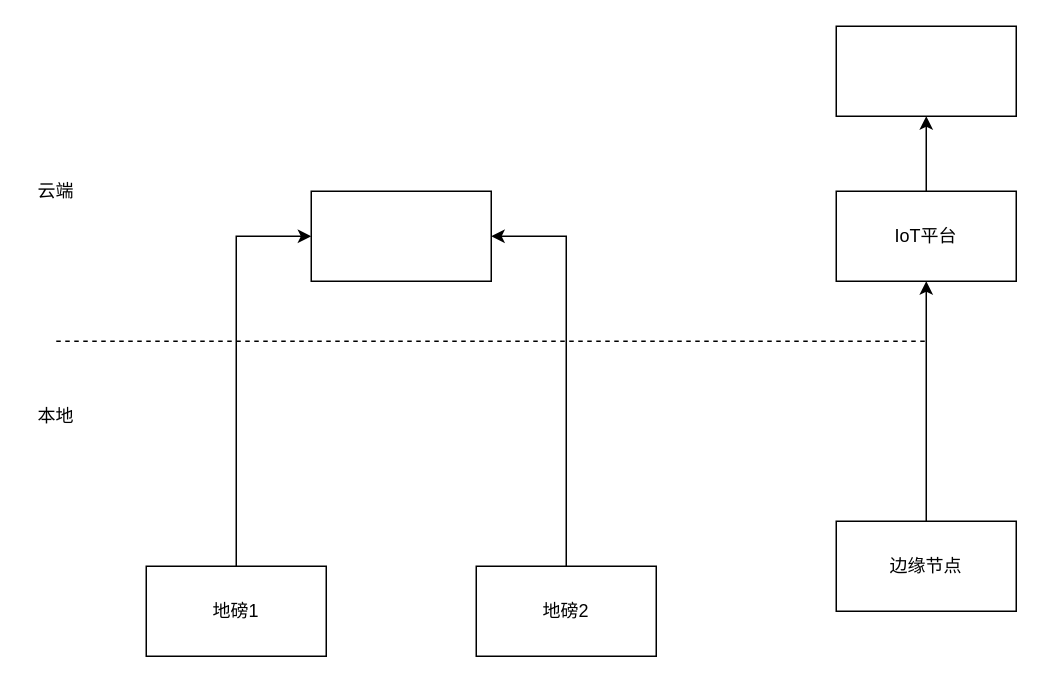
This 1043x683 diagram has some shape labels left out. The box of each missing label's shape, as (x1, y1, x2, y2) in pixels:
消息队列: (310, 190, 491, 281)
过磅服务: (835, 25, 1016, 116)
